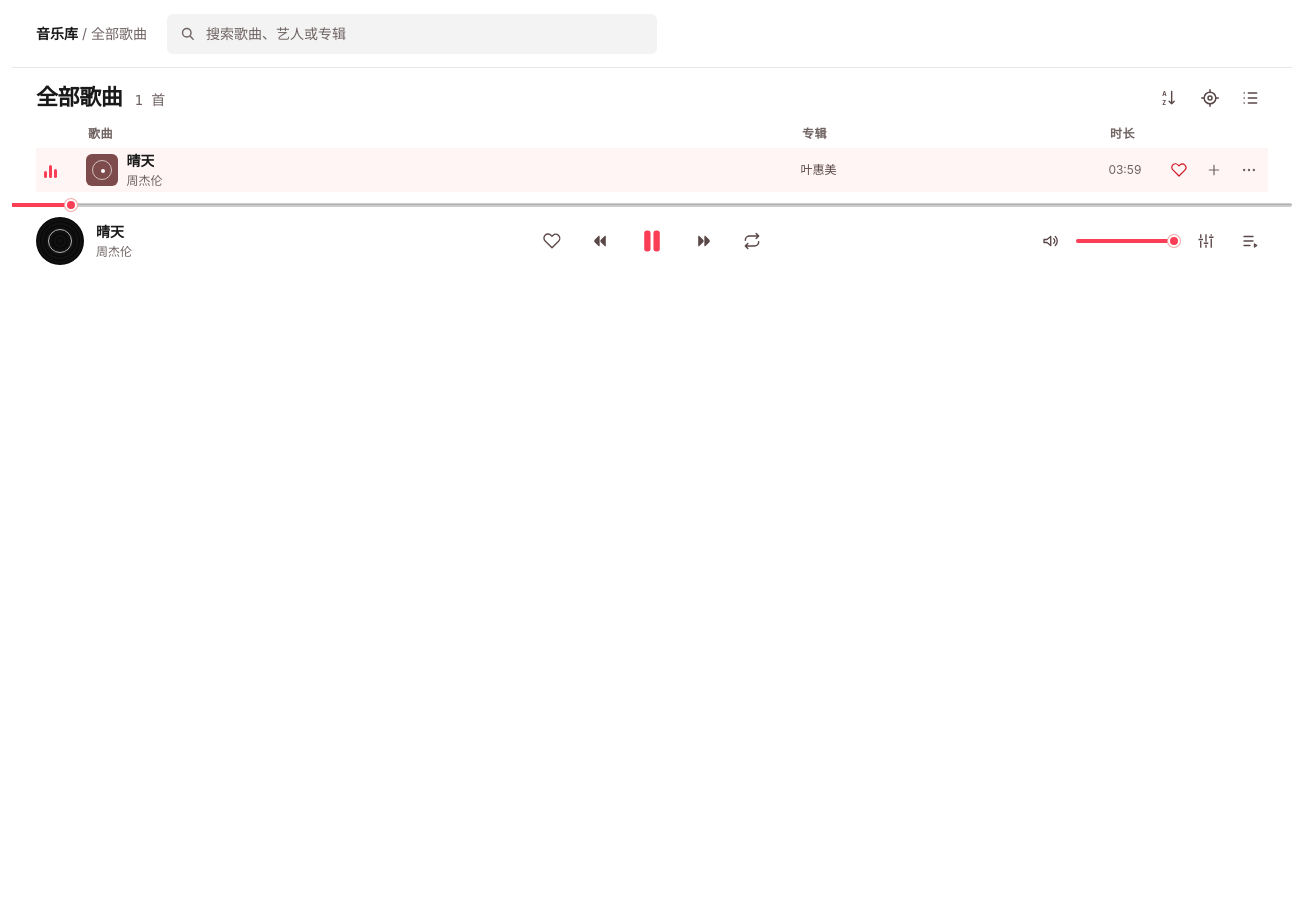
已保存待更新 keeps the committed like on screen › recognises the state from the code alone when no structured outcome is sent
Click the button named "喜欢晴天".
click(1179, 170)  # box x1=1166 y1=156 x2=1193 y2=184
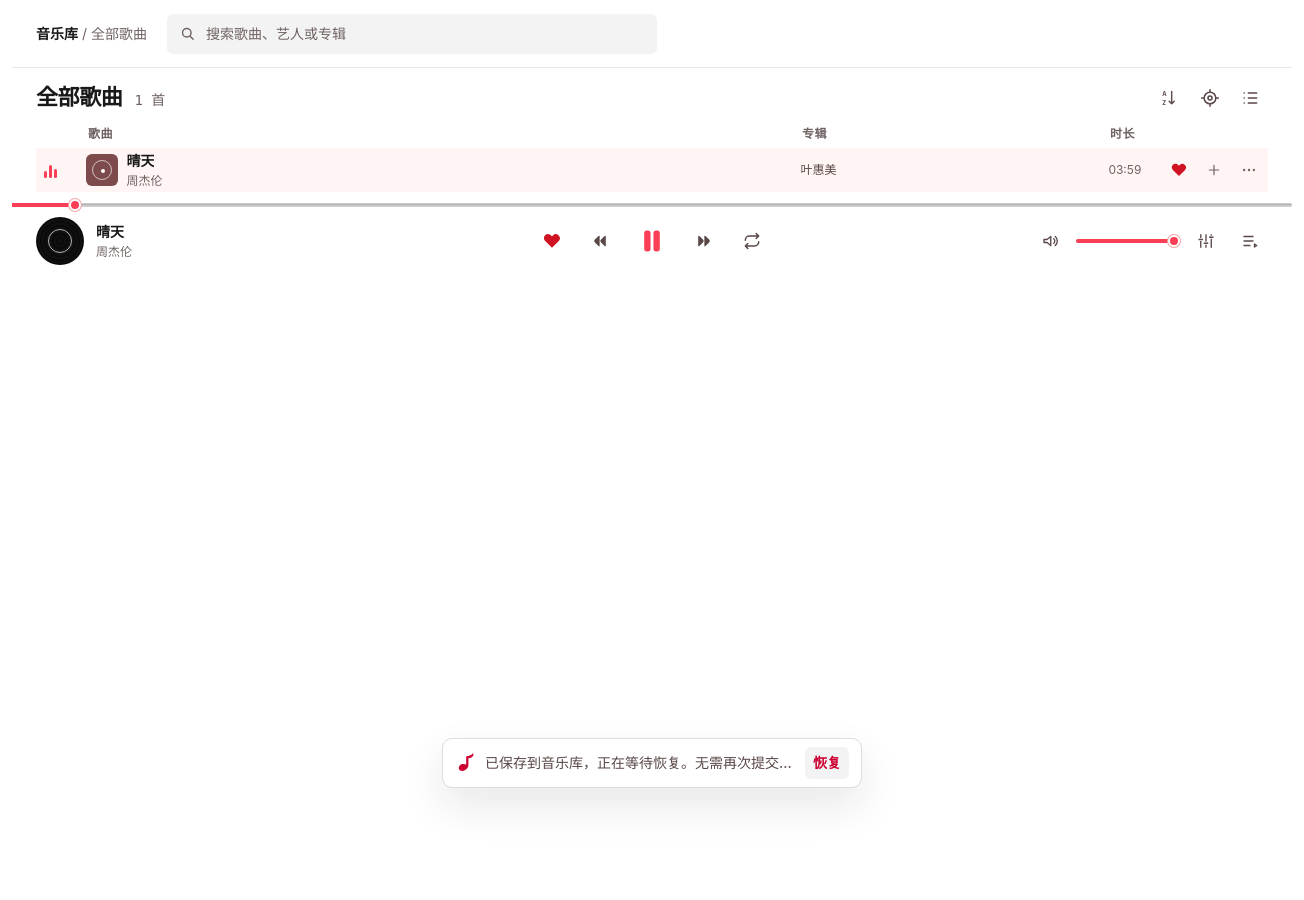
Expected: the message with test id "toast" shows "等待恢复", x1=485 y1=754 x2=849 y2=771
